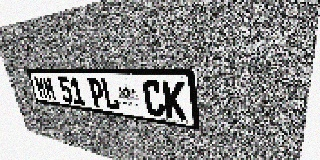1: (68, 77, 85, 105)
5: (57, 77, 74, 104)
C: (142, 80, 165, 117)
K: (162, 81, 187, 121)
L: (100, 78, 120, 111)
M: (42, 76, 57, 101), (34, 76, 49, 100)
P: (87, 78, 106, 108)
